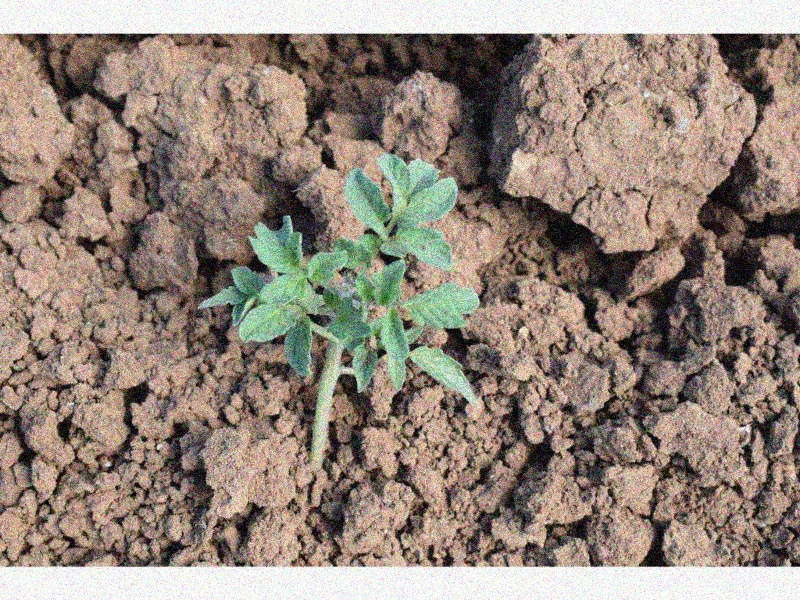tomato: (197, 152, 477, 405)
